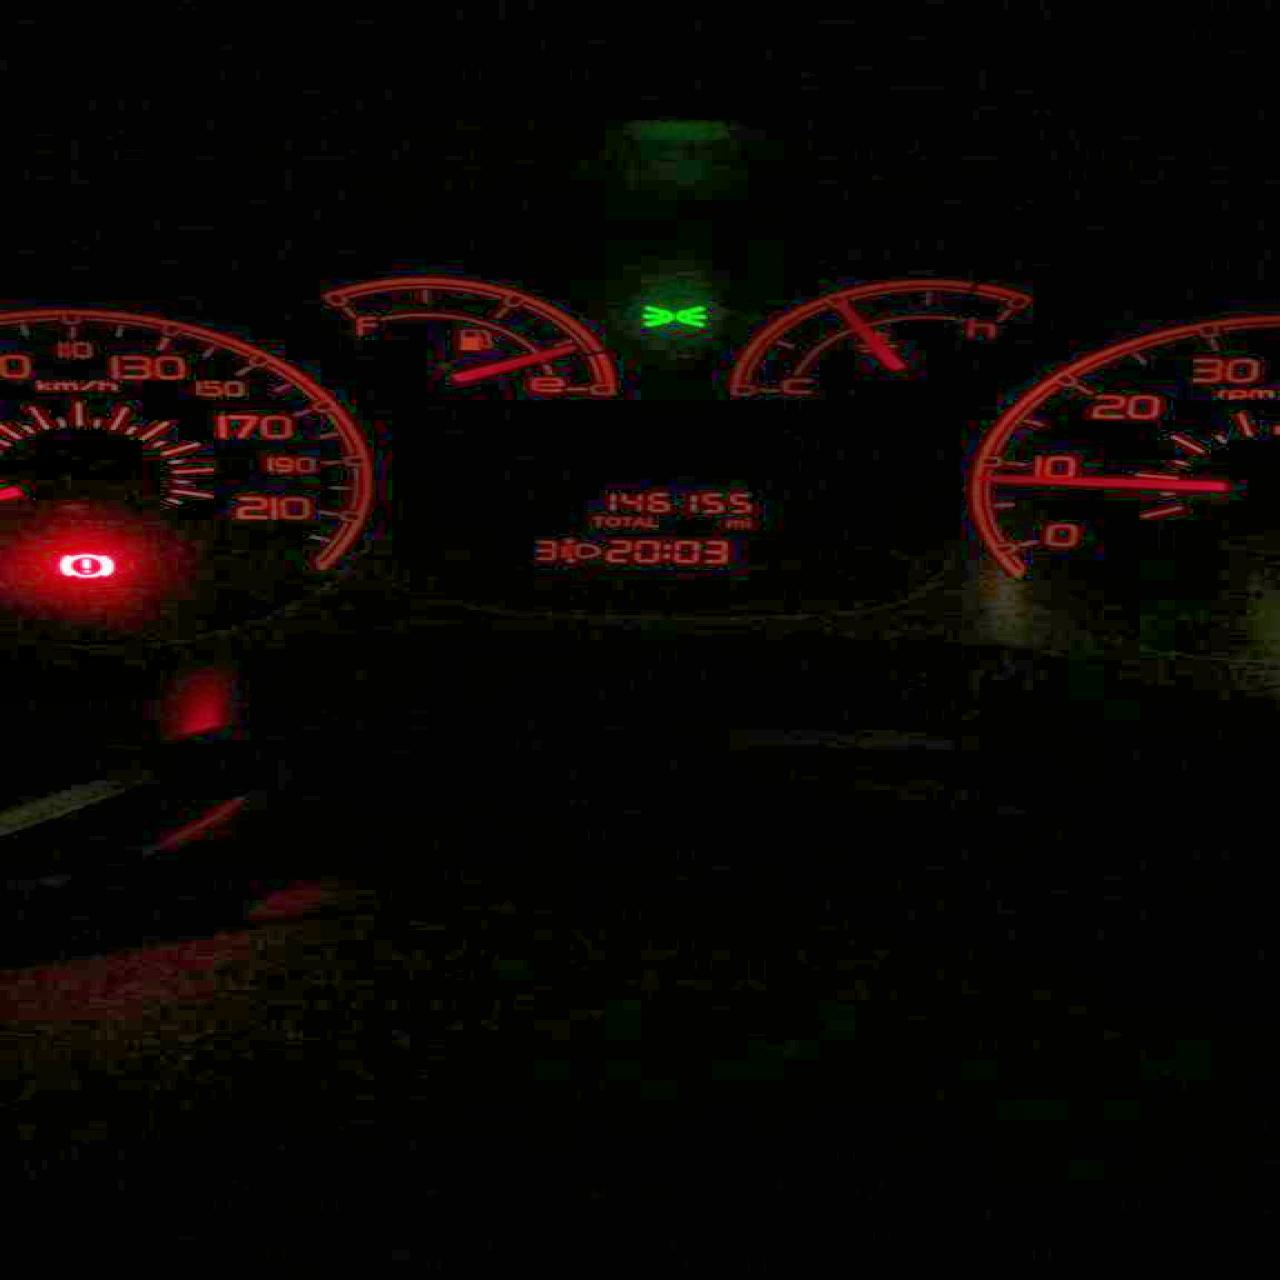0: (629, 538, 659, 563), (672, 538, 701, 563)
1: (606, 492, 617, 510), (686, 493, 696, 510)
2: (601, 538, 629, 561)
3: (701, 538, 728, 563), (532, 539, 557, 560)
4: (619, 492, 641, 510)
5: (699, 491, 723, 512), (726, 491, 750, 512)
6: (646, 491, 670, 511)
X: (723, 517, 743, 527), (604, 515, 619, 526), (661, 543, 670, 560), (590, 515, 604, 525), (644, 516, 656, 526), (633, 516, 644, 526), (621, 515, 629, 526), (744, 517, 750, 527)
odometer: (492, 475, 790, 573)
